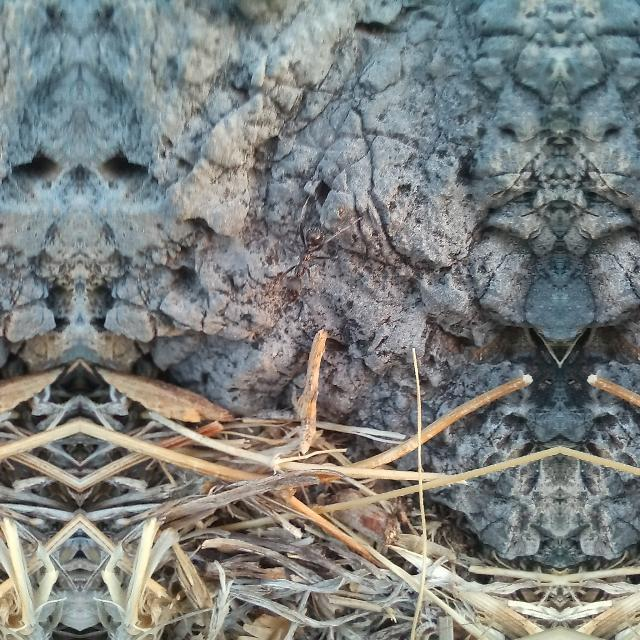Apheanogaster: (273, 211, 333, 311)
